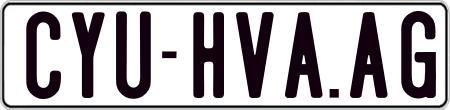A: (347, 11, 389, 101), (282, 11, 320, 103)
C: (25, 12, 64, 99)
G: (400, 11, 436, 100)
H: (191, 12, 226, 100)
U: (116, 8, 155, 101)
V: (233, 9, 275, 100)
Y: (70, 12, 107, 102)
